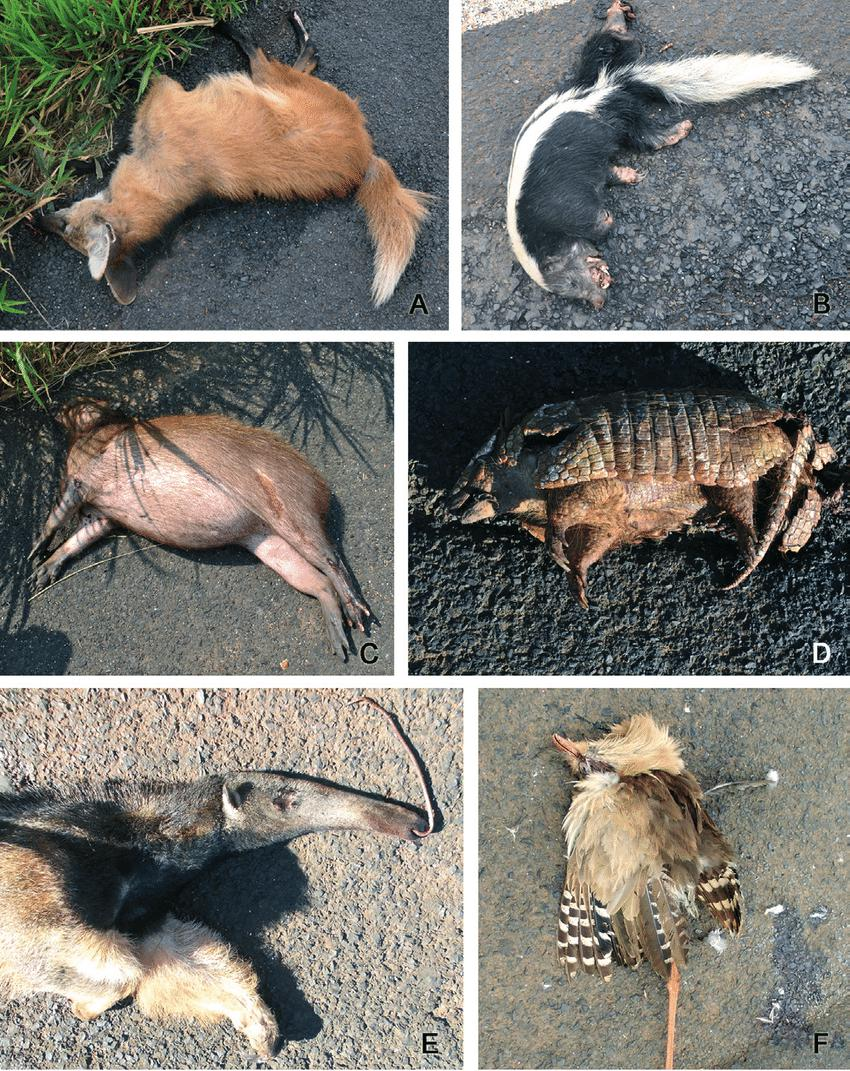LoboGuara: (39, 23, 437, 304)
TamanduaBandeira: (12, 744, 435, 1057)
